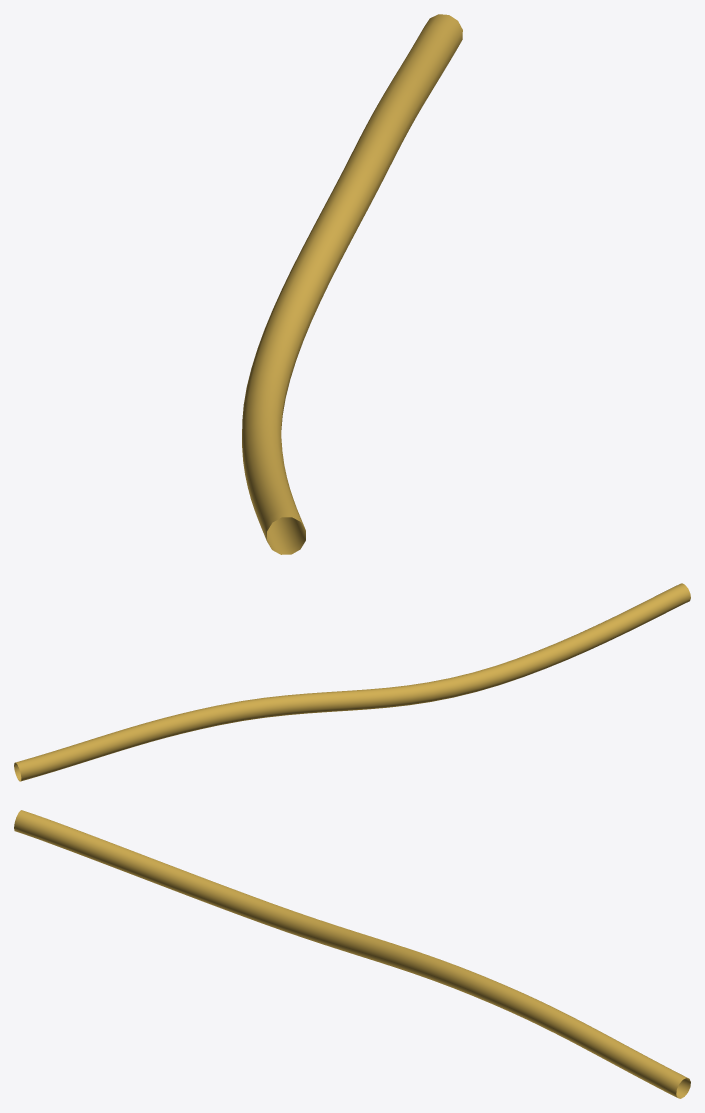
3 views of the same model, one above another, from view 1: azimuth 30°, elevation 25°; view 2: azimuth 150°, elevation 25°; view 3: azimuth 270°, elevation 25° (orthographic). The views are drawn at different scales.
Visible parts, largest first — view 1: 左侧腓深神经肌支; view 2: 左侧腓深神经肌支; view 3: 左侧腓深神经肌支.
Boxes of the visible parts, x1,y1,x2,y2 form: 左侧腓深神经肌支: [242, 14, 462, 554]; 左侧腓深神经肌支: [14, 583, 690, 781]; 左侧腓深神经肌支: [14, 810, 690, 1098].
Size of the model in its own units: 0.0325 by 0.00583 by 0.0436.
